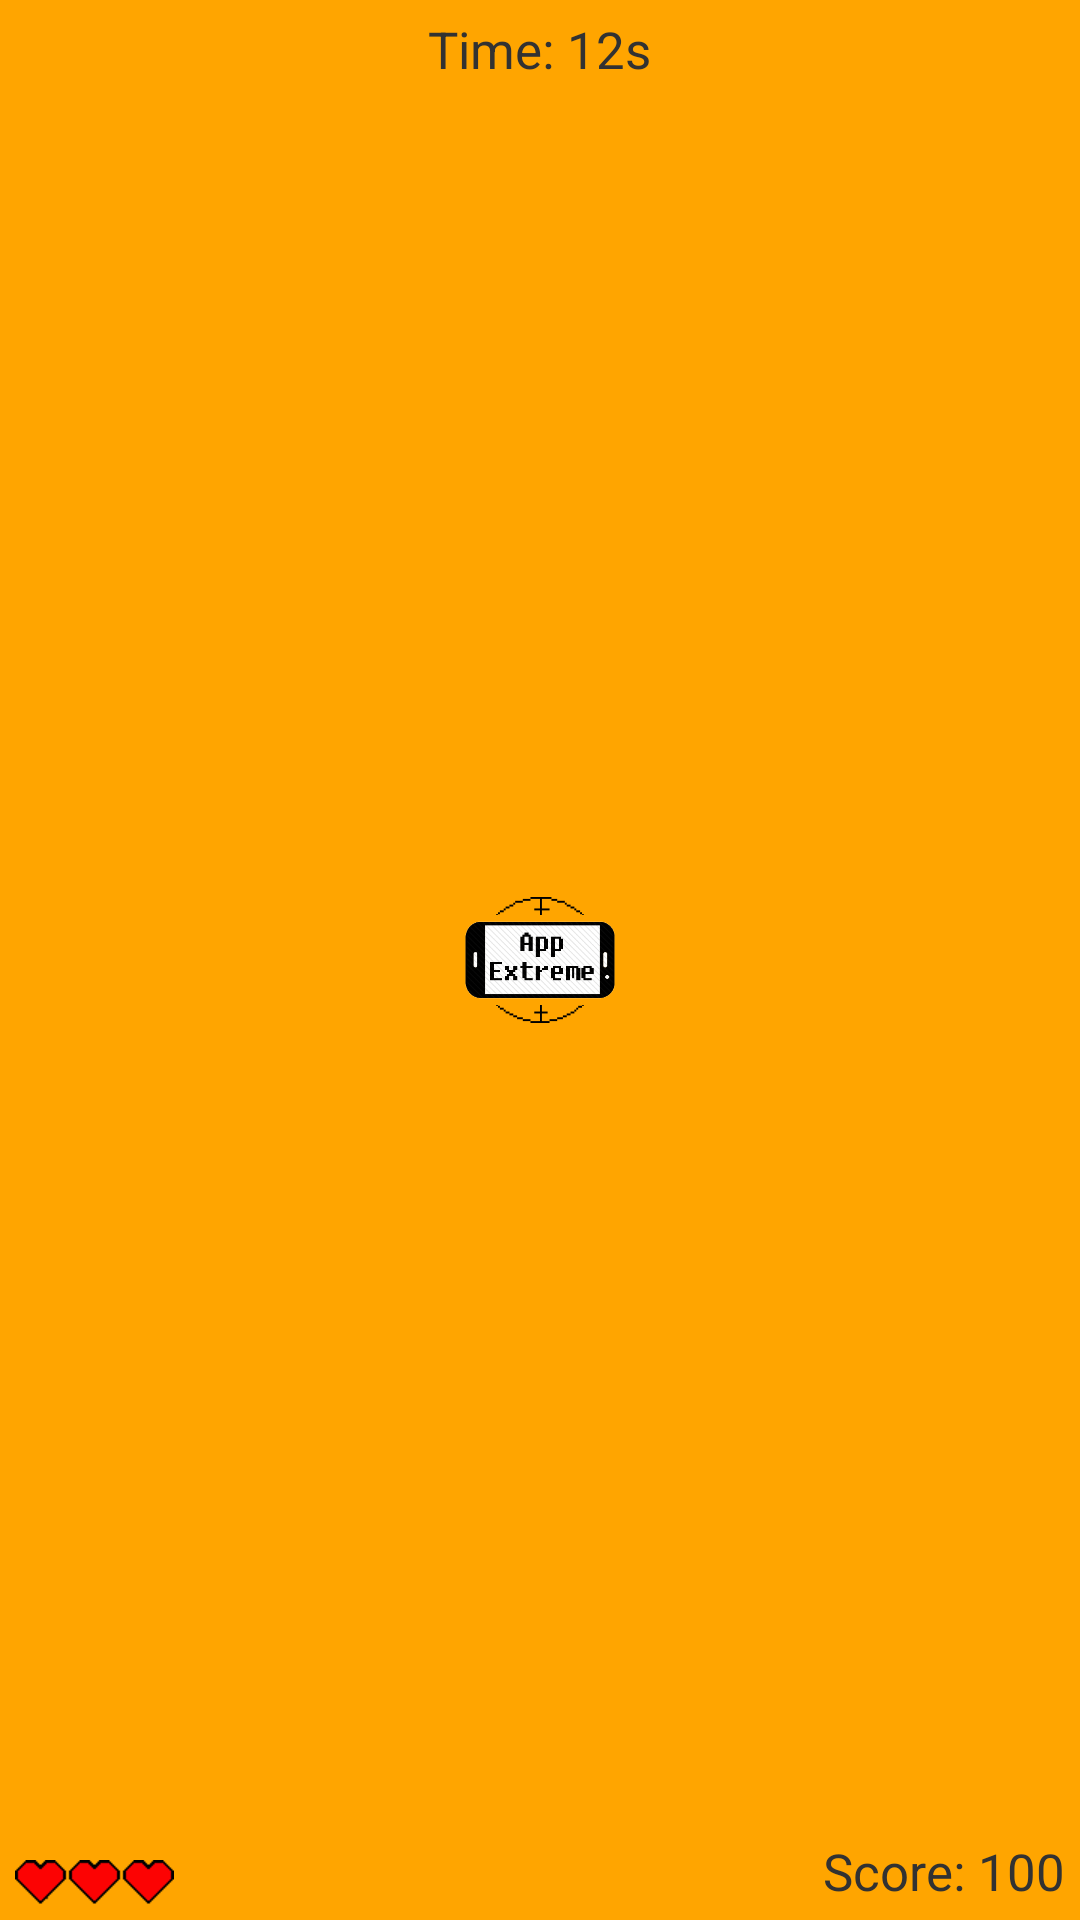

Where to tap for icons on this 1080 x 1920 app screen, as (x=x, y=y):
heart: (x=94, y=1882)
